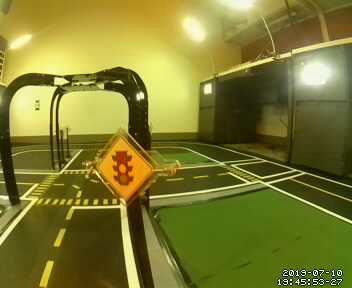Traffic light sign: (96, 137, 156, 199)
